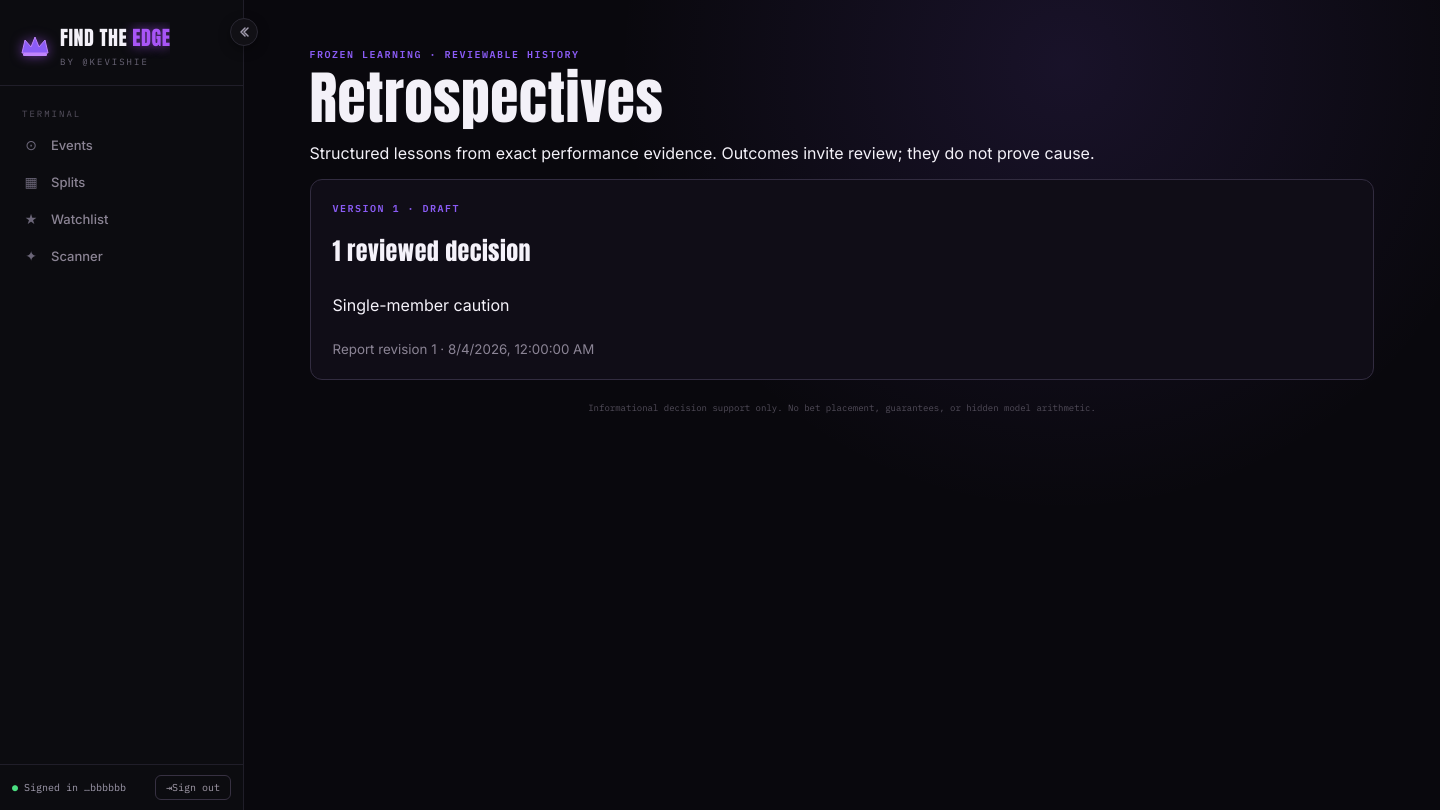
Scenario: renders retrospective evidence layers and honest read-only controls
The width and height of the screenshot is (1440, 810).
Click the heading "1 reviewed decision". click: (432, 251)
box: left=333, top=233, right=531, bottom=269
(page scrolled)
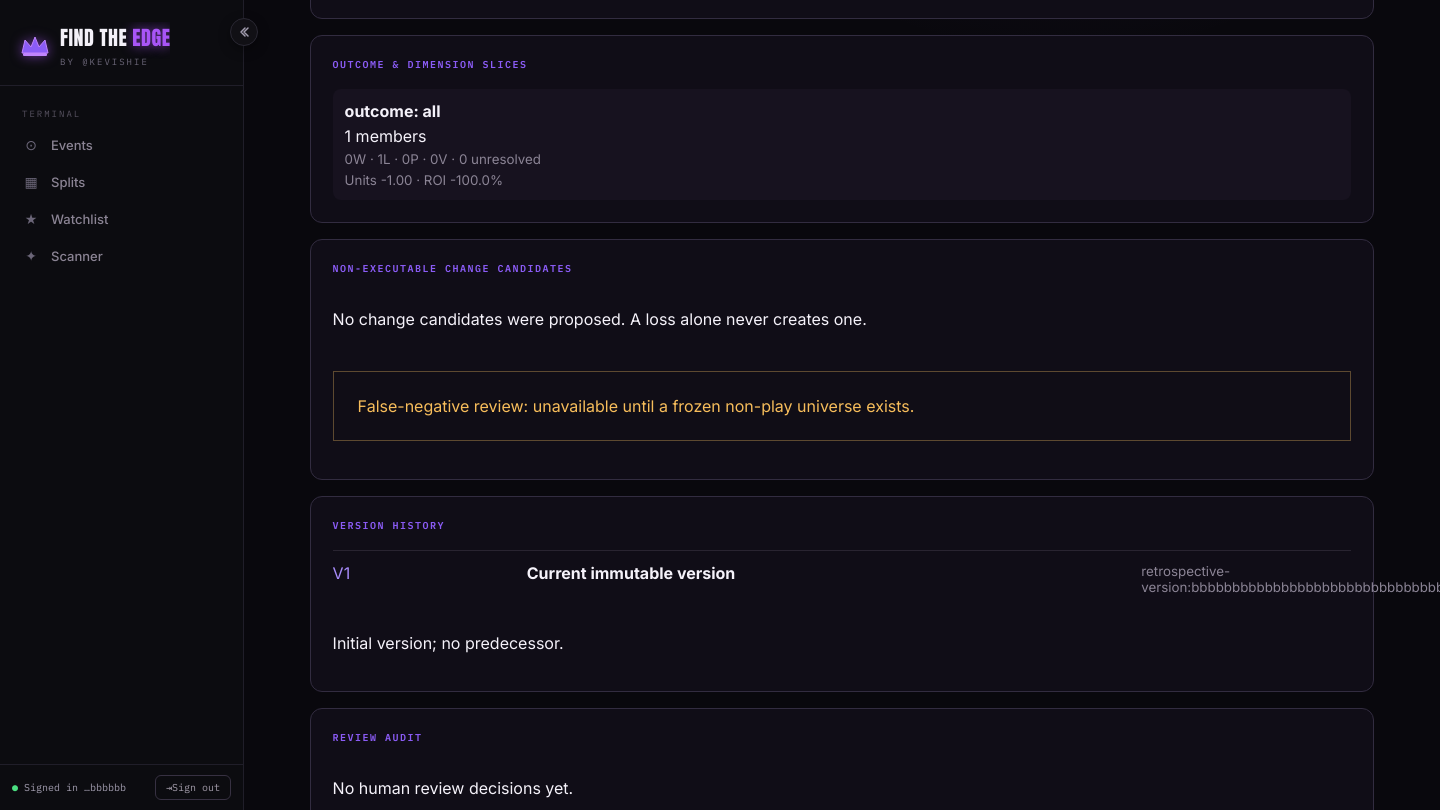
Expected: the text "False-negative review: unavailable" is shown, left=358, top=396, right=914, bottom=416
